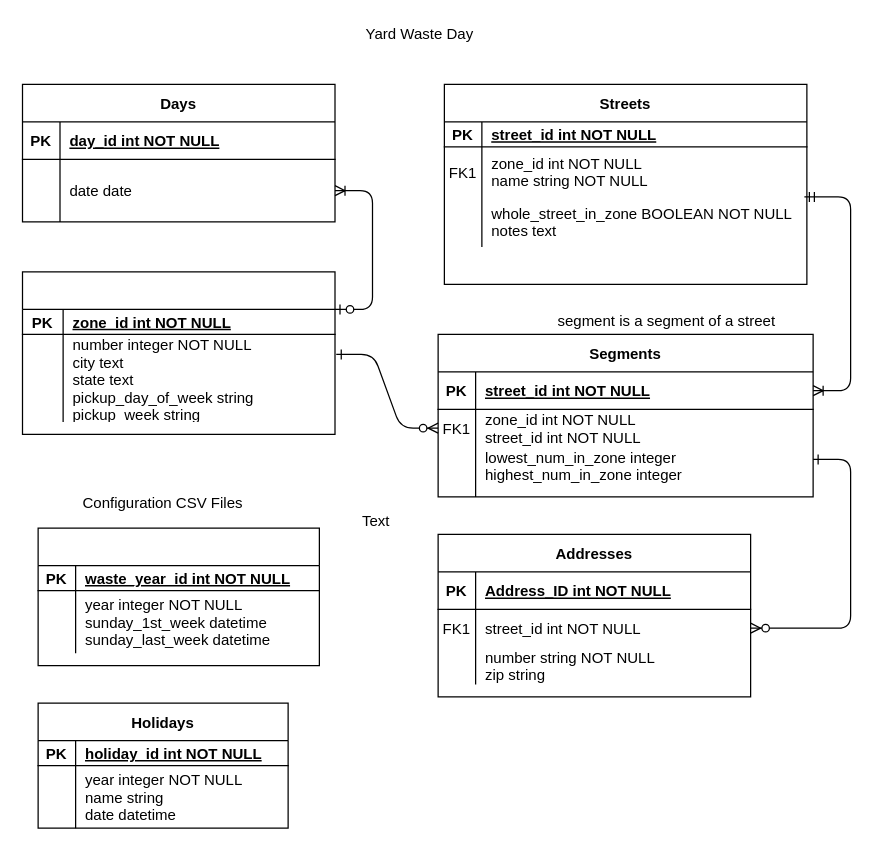
Some shapes in this 884 by 850 pixel diagram are drawn without their labels. The box of each missing label's shape, as (x1, y1, x2, y2) in pixels:
Waste Years: (37, 527, 319, 666)
Zones: (21, 271, 335, 434)
